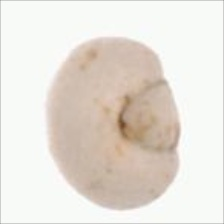L5: (118, 79, 184, 155)
L6: (40, 35, 184, 211)
